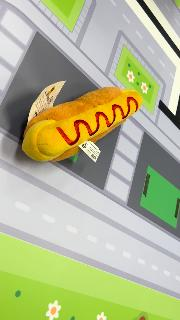hotdog: (21, 85, 142, 163)
